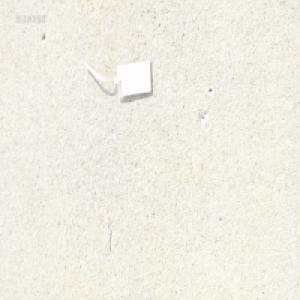LuggageTag: (82, 55, 154, 101)
